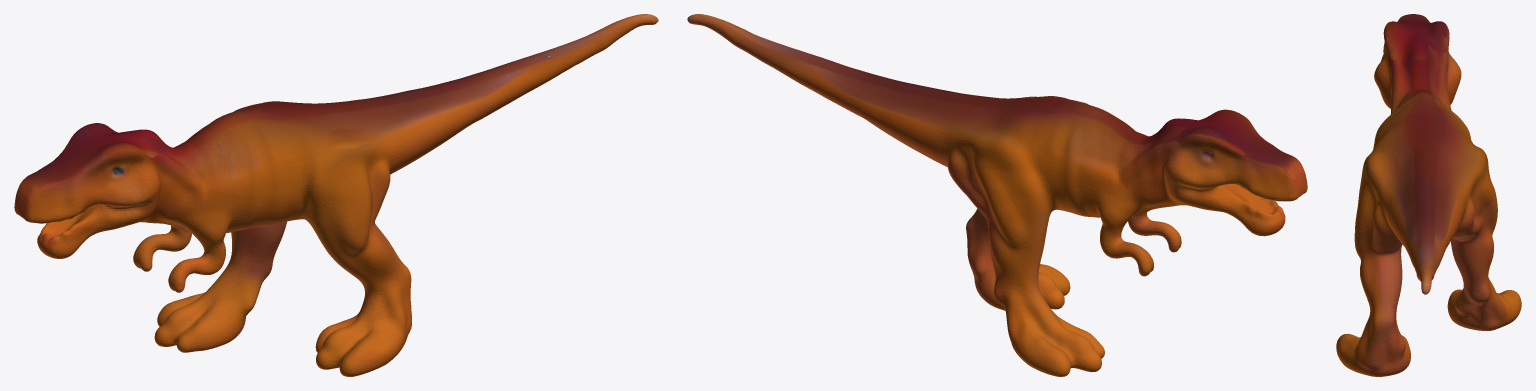
Rendered from dragon_1.obj.
3 renders of one model, left to right at view 1: azimuth 30°, elevation 25°; view 2: azimuth 150°, elevation 25°; view 3: azimuth 270°, elevation 25°, orthographic. The views are drawn at different scales.
Parts seen in each view (by area): view 1: texture_v100; view 2: texture_v100; view 3: texture_v100.
Boxes of the visible parts, x1=… form: texture_v100: x1=14, y1=14, x2=658, y2=376; texture_v100: x1=687, y1=14, x2=1307, y2=376; texture_v100: x1=1336, y1=14, x2=1521, y2=376.
Size of the model in its own units: 1.14 by 0.4475 by 0.3142.
Materials: 1 (1 with a texture image).
